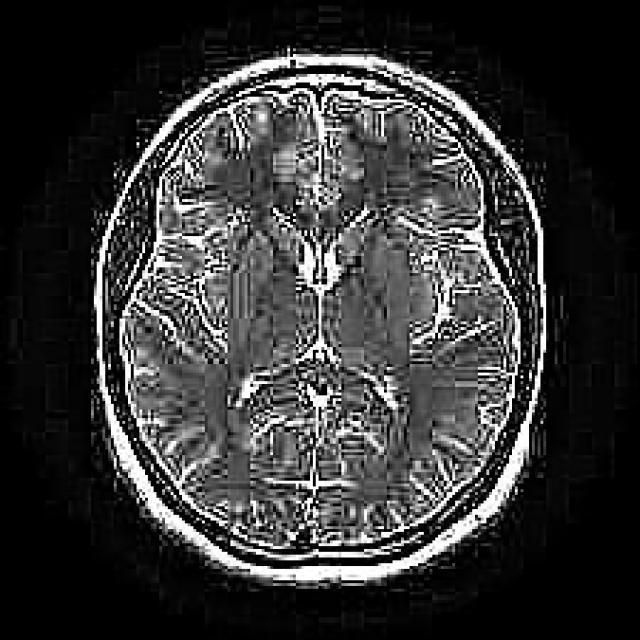notumor: (97, 48, 543, 583)
